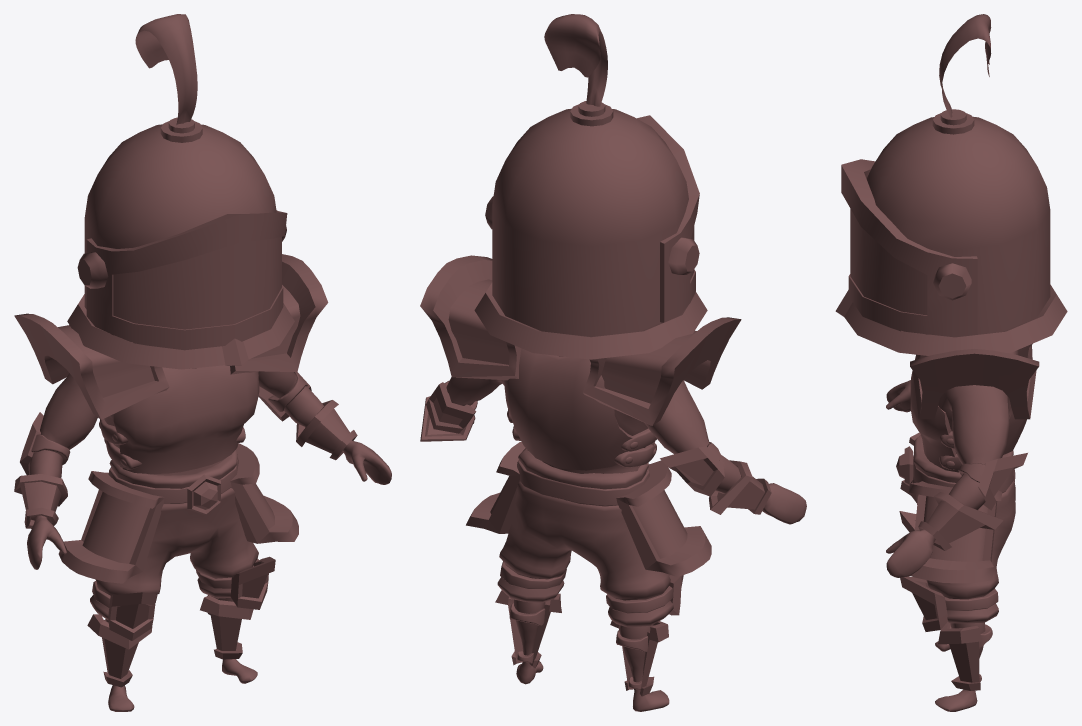
Rendered from Knight_Living_Final.fbx.
3 renders of one model, left to right at view 1: azimuth 30°, elevation 25°; view 2: azimuth 150°, elevation 25°; view 3: azimuth 270°, elevation 25°, orthographic. The views are drawn at different scales.
Visible parts, largest first — view 1: Knight_Head_Living, Knight_Torso_Living, Knight_Legs_Living; view 2: Knight_Head_Living, Knight_Torso_Living, Knight_Legs_Living; view 3: Knight_Head_Living, Knight_Torso_Living, Knight_Legs_Living.
Boxes of the visible parts, x1=… form: Knight_Head_Living: x1=67, y1=14, x2=294, y2=369; Knight_Torso_Living: x1=14, y1=254, x2=391, y2=569; Knight_Legs_Living: x1=58, y1=443, x2=298, y2=711; Knight_Head_Living: x1=474, y1=14, x2=707, y2=359; Knight_Torso_Living: x1=420, y1=255, x2=806, y2=524; Knight_Legs_Living: x1=466, y1=441, x2=711, y2=711; Knight_Head_Living: x1=835, y1=14, x2=1067, y2=355; Knight_Torso_Living: x1=886, y1=343, x2=1039, y2=577; Knight_Legs_Living: x1=896, y1=432, x2=1015, y2=711.
Bounding box in the file's own units: 134 × 241 × 76.74.
